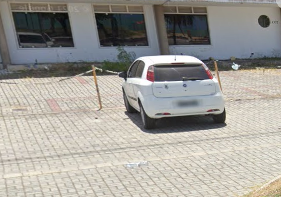car: (113, 47, 230, 137)
